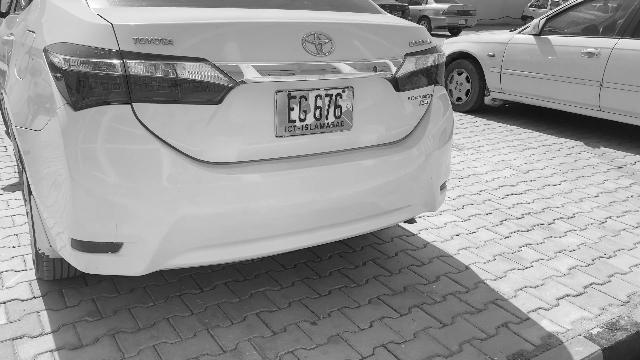Number: (286, 92, 350, 126)
